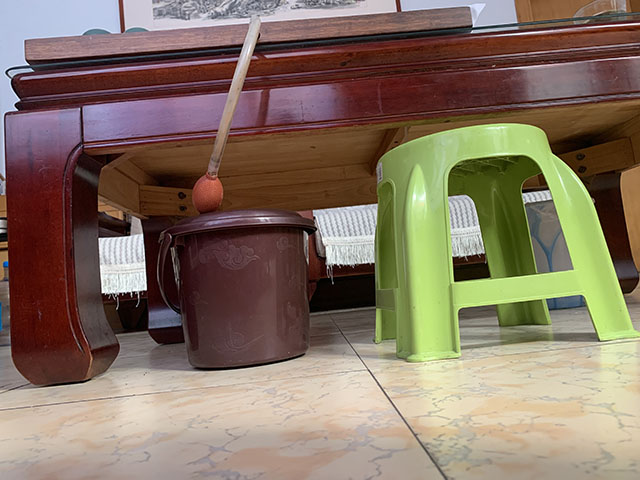stool: (368, 121, 640, 366)
table: (2, 5, 640, 388)
trashcan: (156, 207, 319, 372), (527, 199, 585, 310)
